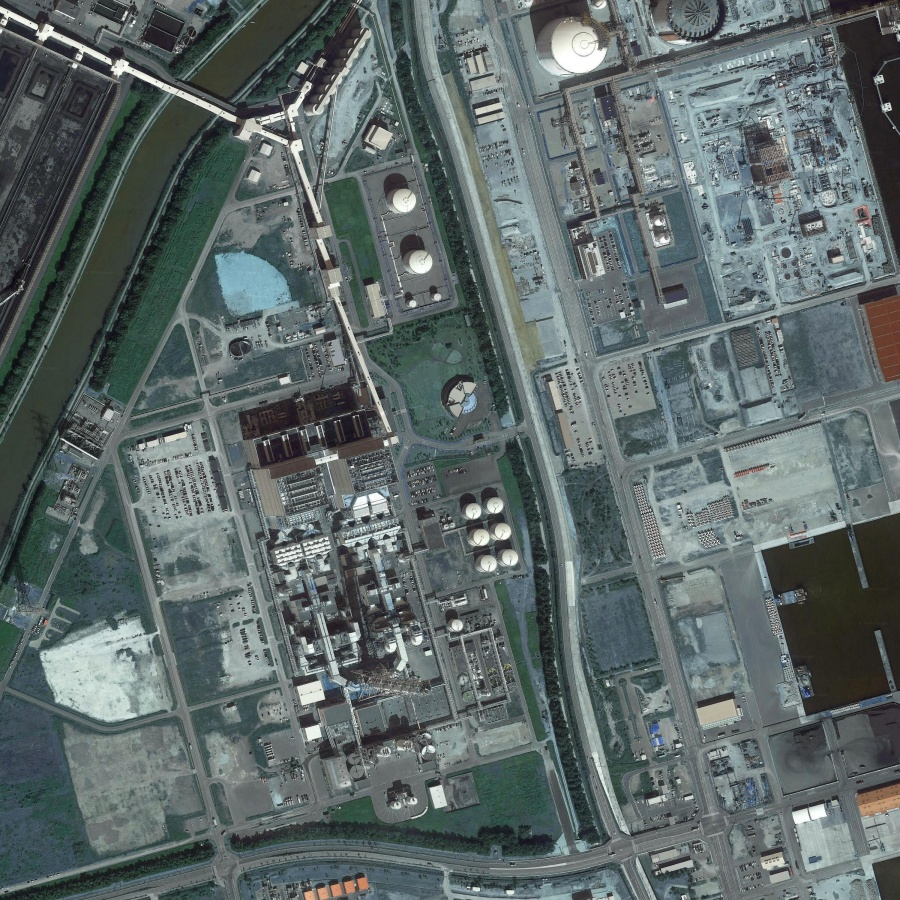PowerPlant: (250, 423, 530, 813)
